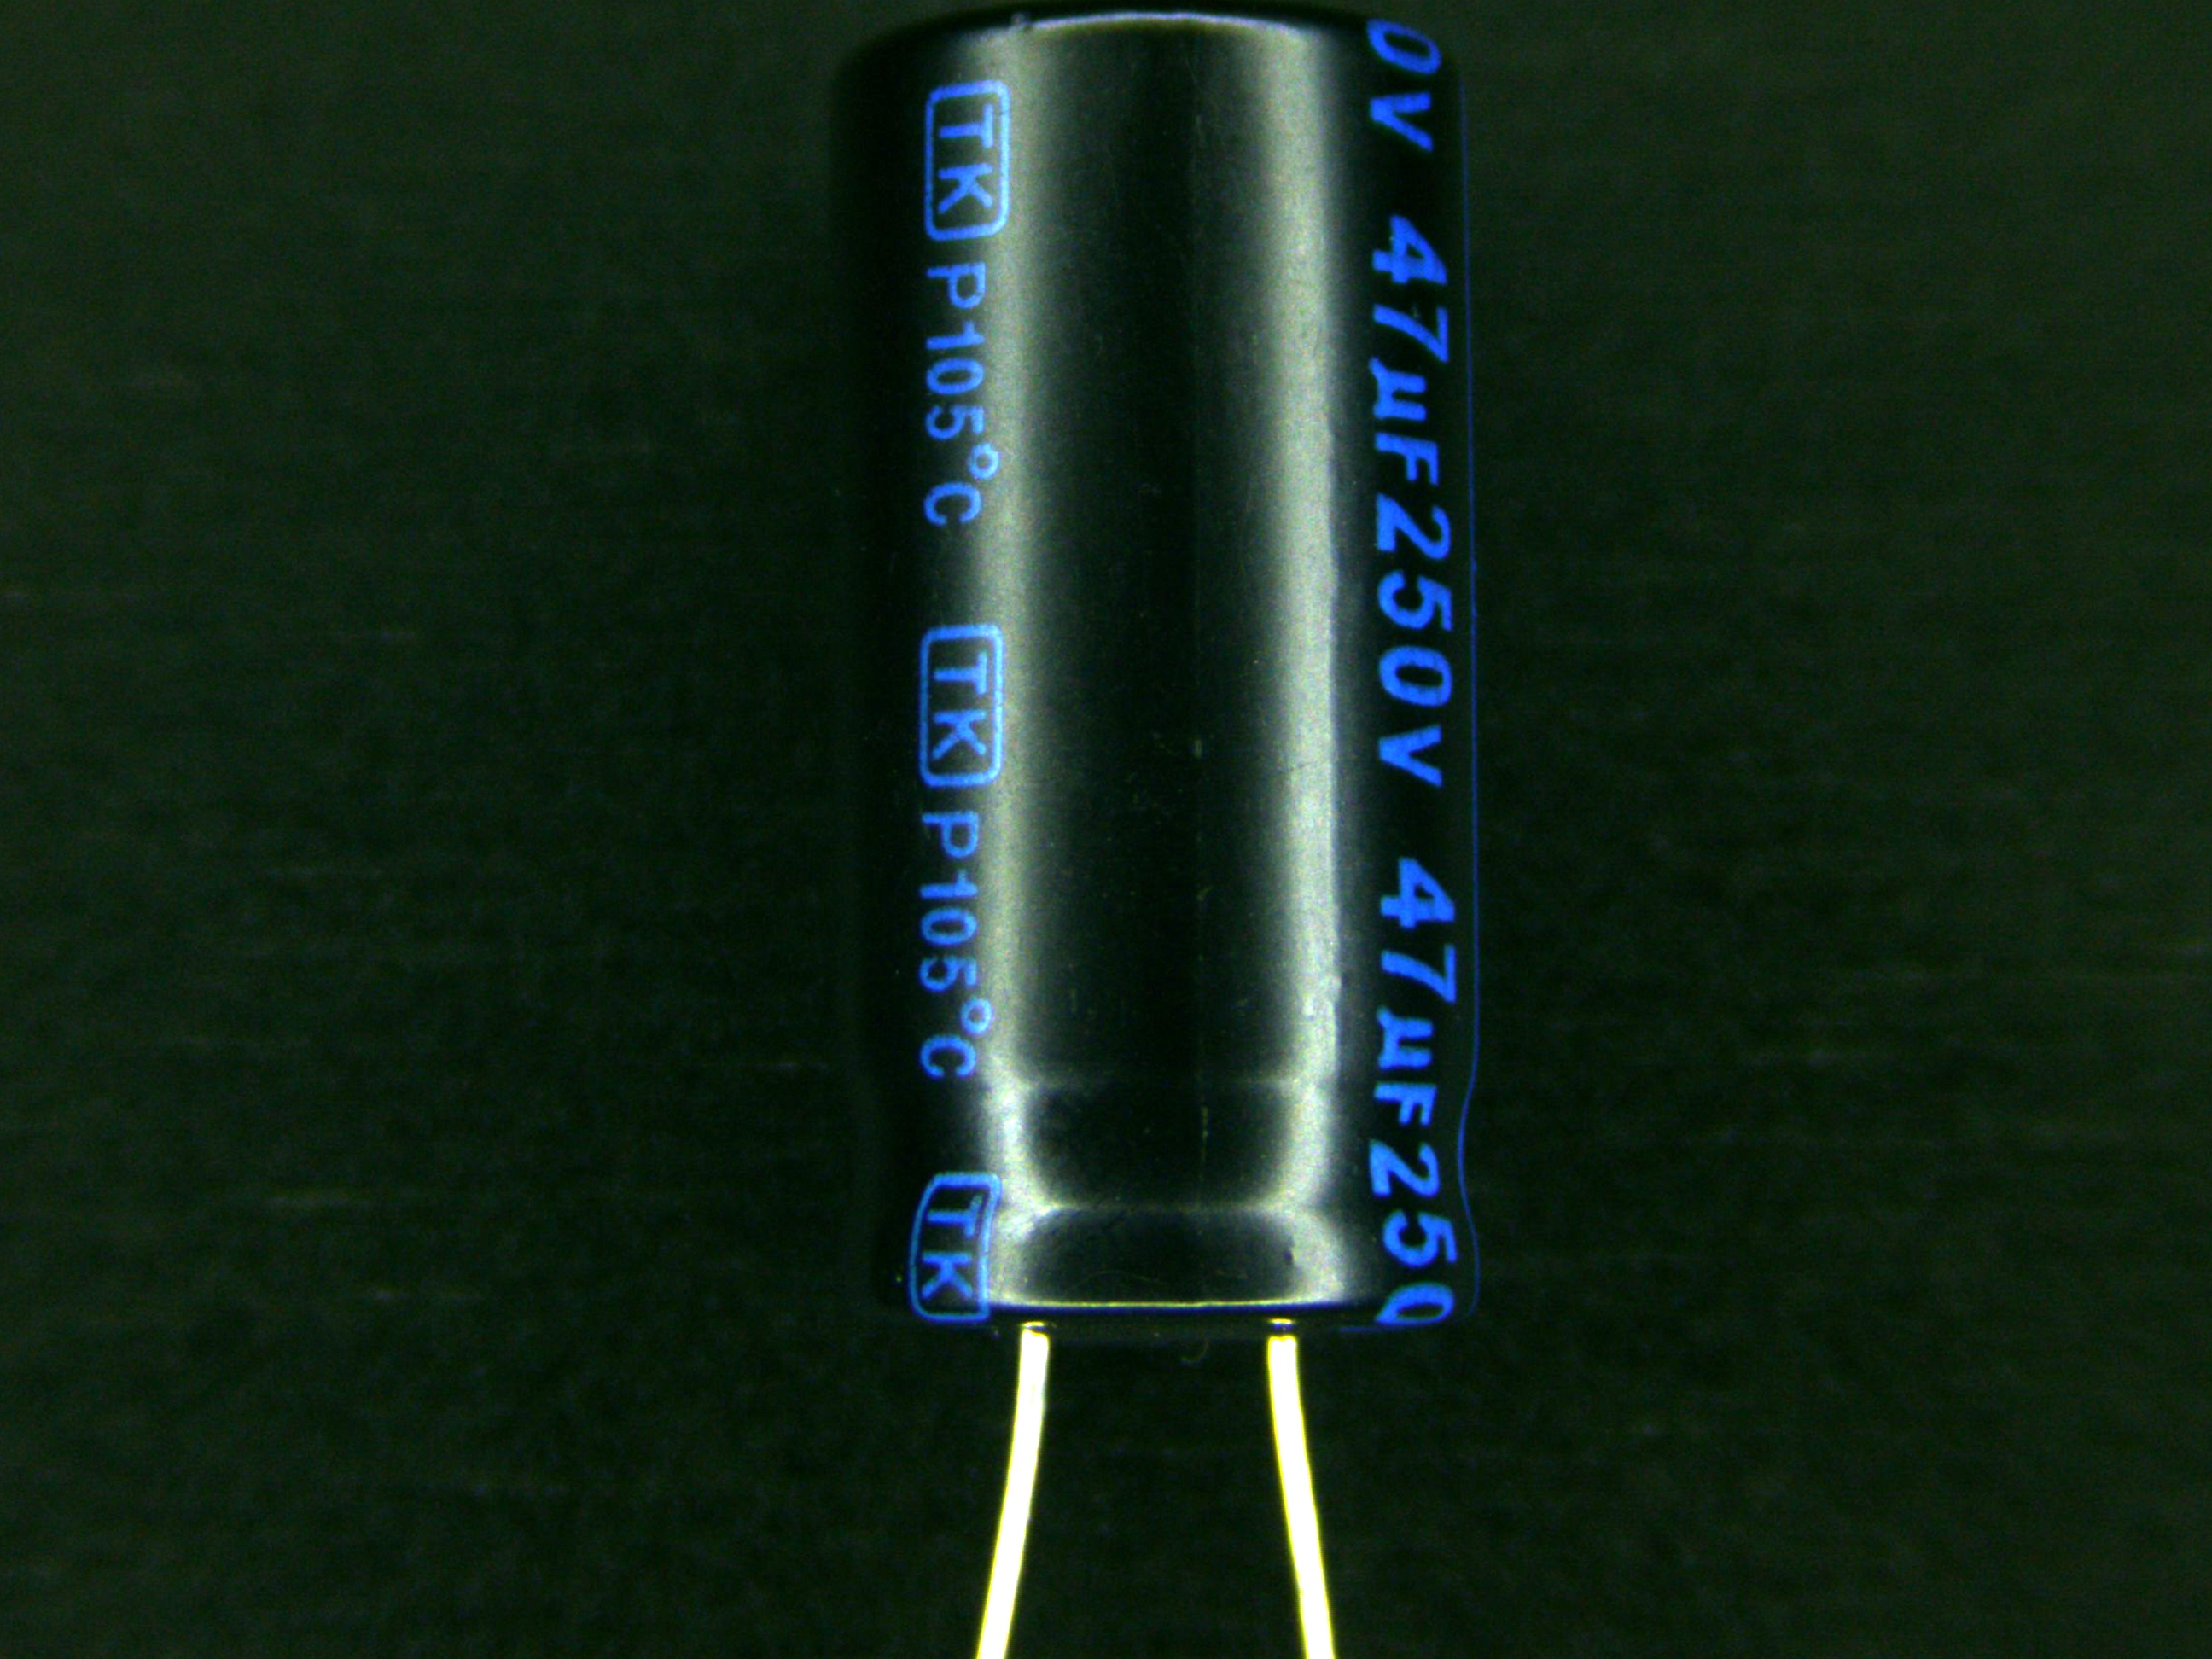c2: (827, 7, 1486, 1474)
